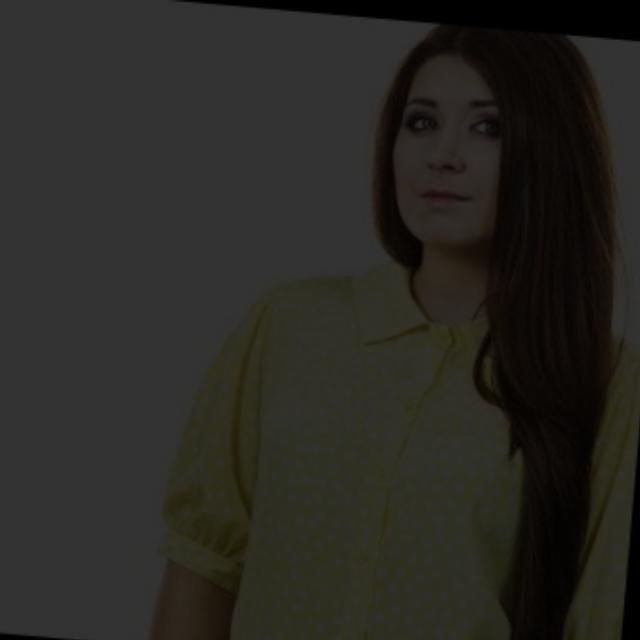Natural: (329, 90, 573, 324)
